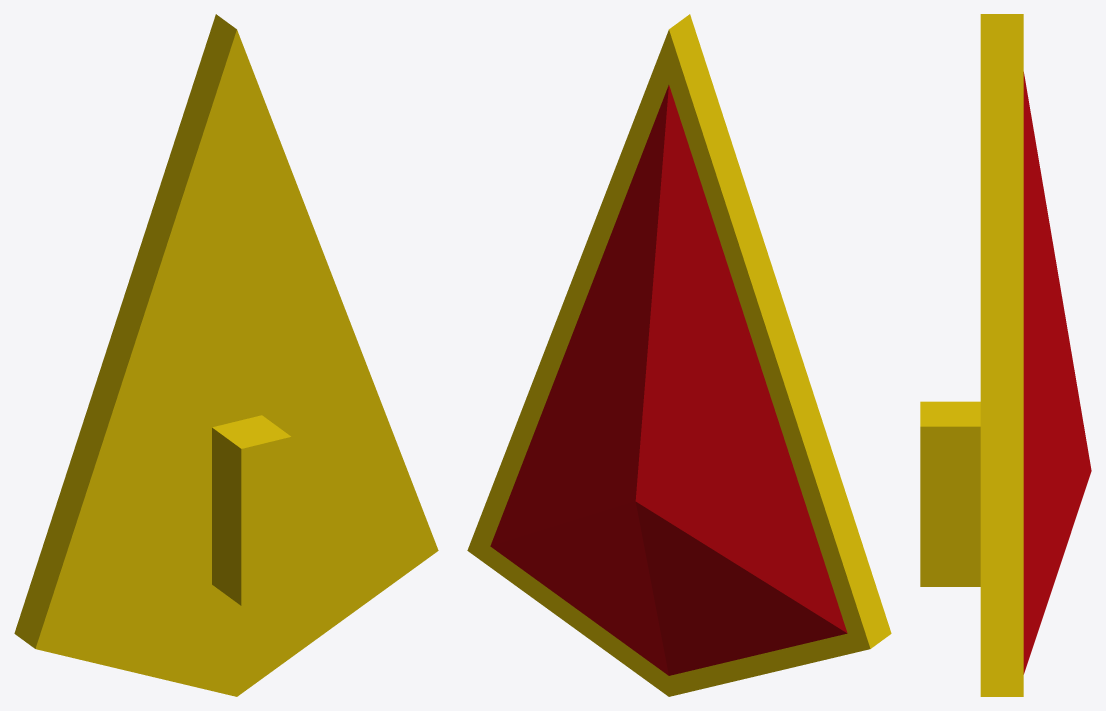
The model's file is mdl_zesty_maple_tri_lg_garnet.gltf.
3 views of the same model, side by side, from view 1: azimuth 30°, elevation 25°; view 2: azimuth 150°, elevation 25°; view 3: azimuth 270°, elevation 25° (orthographic). The views are drawn at different scales.
Parts seen in each view (by area): view 1: mdl_zesty_maple_tri_lg_garnet; view 2: mdl_zesty_maple_tri_lg_garnet; view 3: mdl_zesty_maple_tri_lg_garnet.
Part boxes in pixels (x1=…): mdl_zesty_maple_tri_lg_garnet: x1=14, y1=14, x2=438, y2=696; mdl_zesty_maple_tri_lg_garnet: x1=467, y1=14, x2=891, y2=696; mdl_zesty_maple_tri_lg_garnet: x1=920, y1=14, x2=1091, y2=696.
Size of the model in its own units: 0.1106 by 0.1749 by 0.0398.
